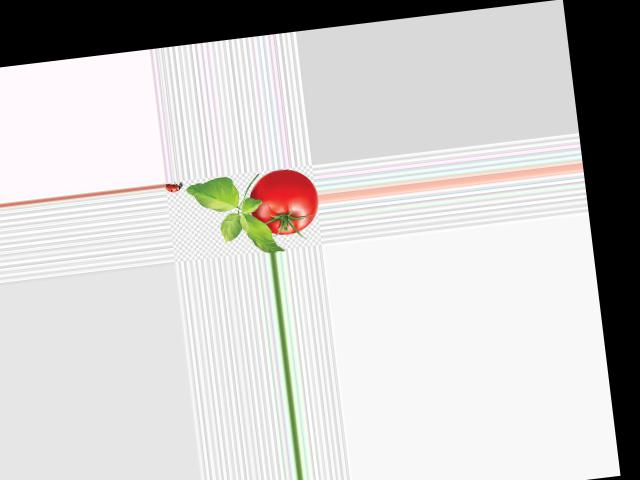tomato: (246, 165, 321, 238)
